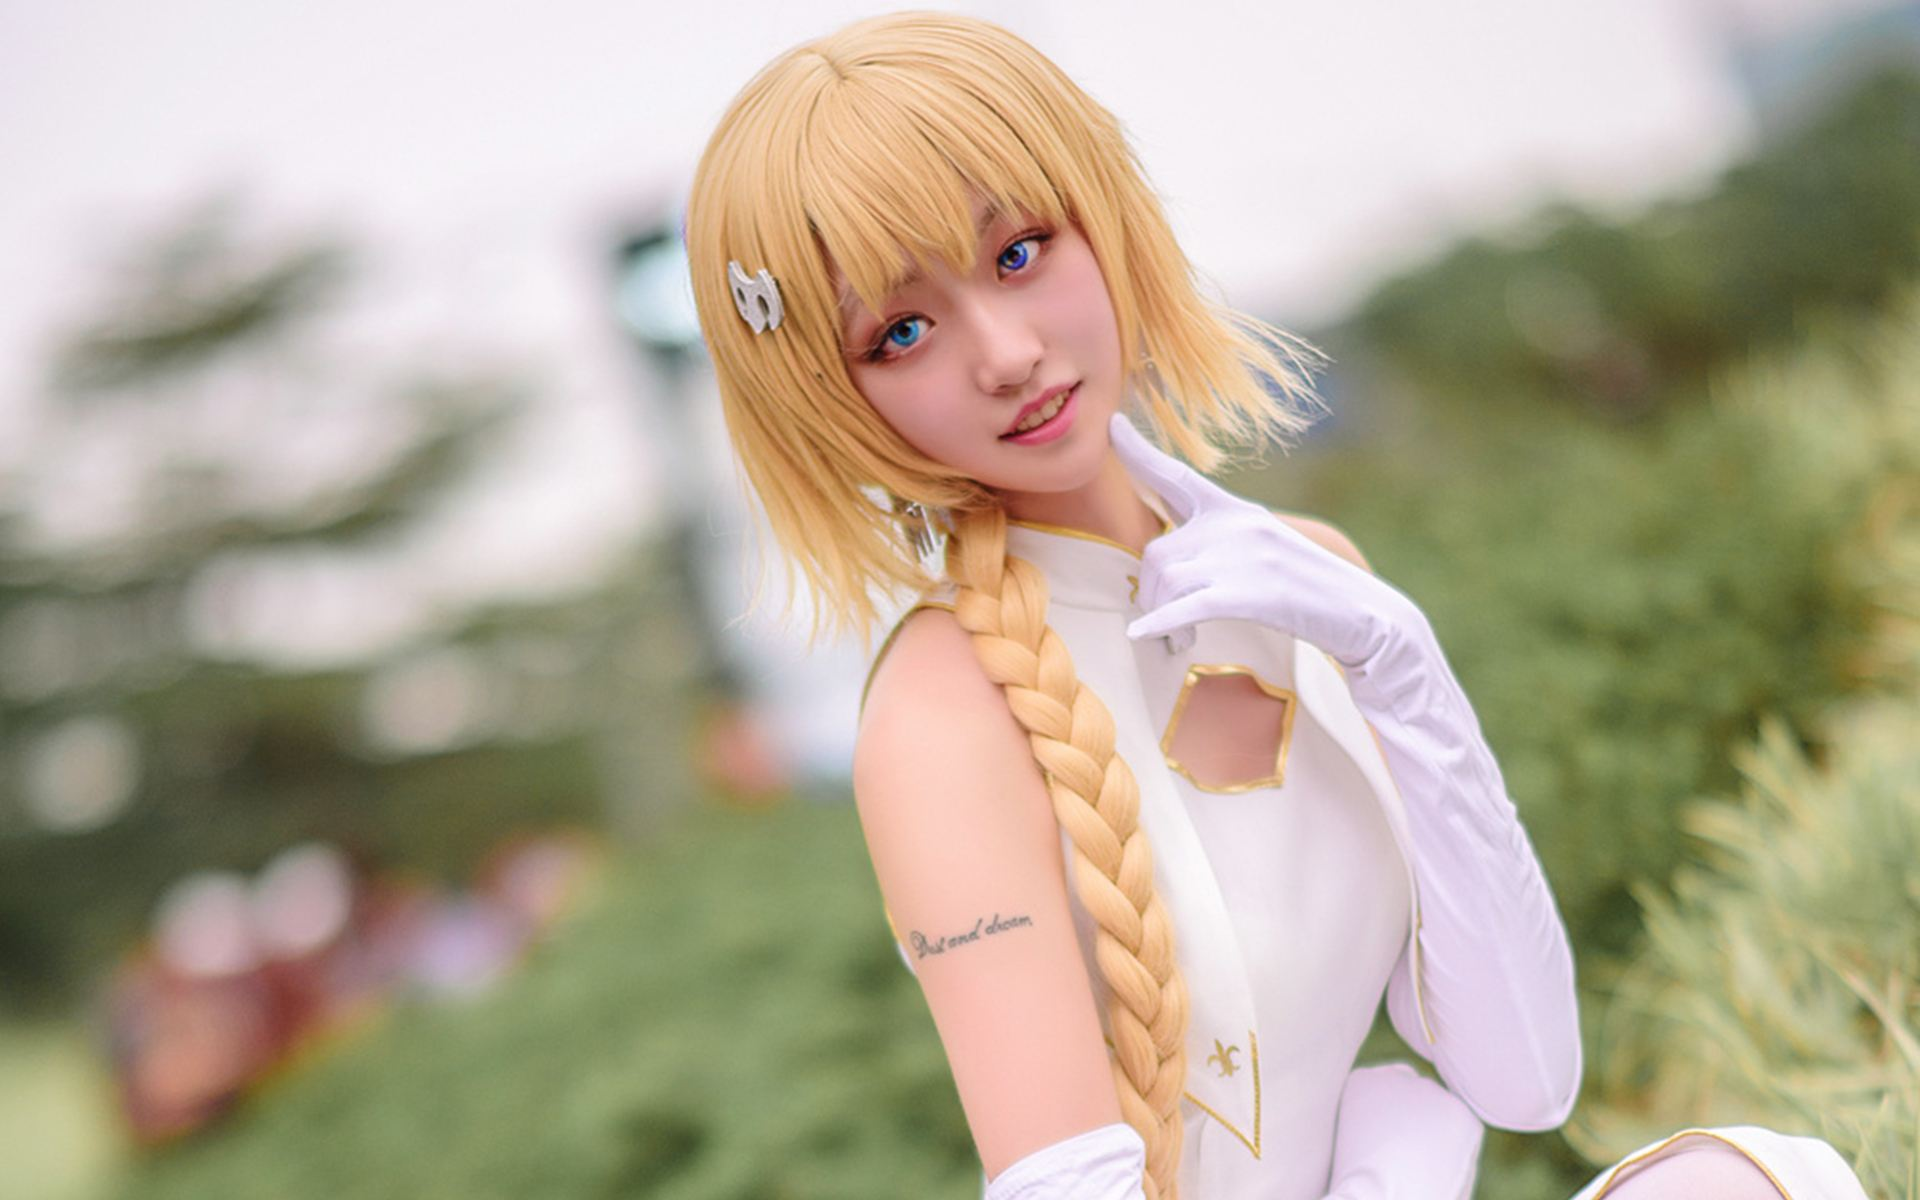person: (688, 62, 1532, 988)
